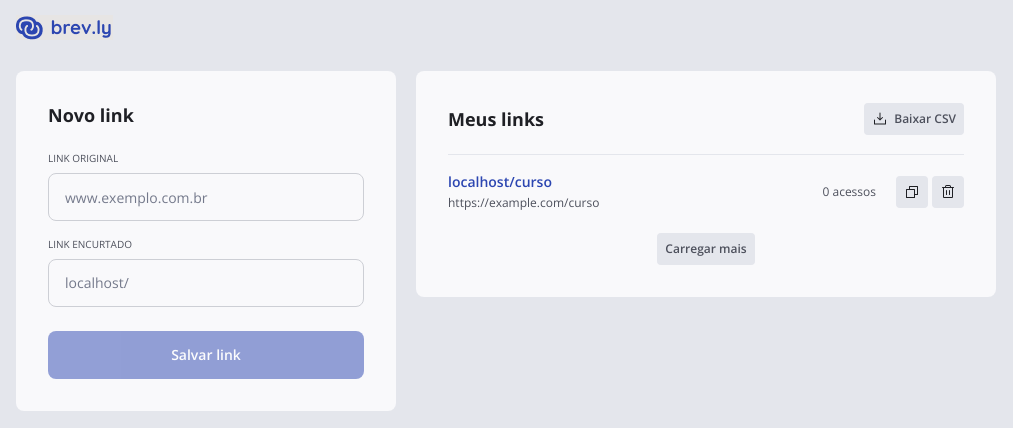
Test case: Página inicial › carrega a próxima página sem substituir os links anteriores
Click the button "Carregar mais".
click(706, 249)  # box x1=657 y1=233 x2=755 y2=265
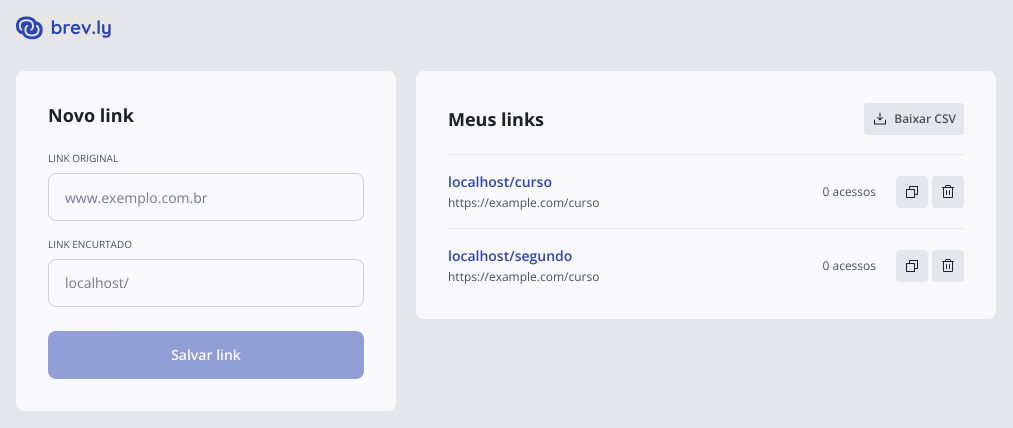
Expected: the link "localhost/curso" is shown, x1=448 y1=172 x2=552 y2=191
Result: the link "localhost/segundo" is shown at x1=448 y1=246 x2=572 y2=265
Result: the button "Carregar mais" is gone
